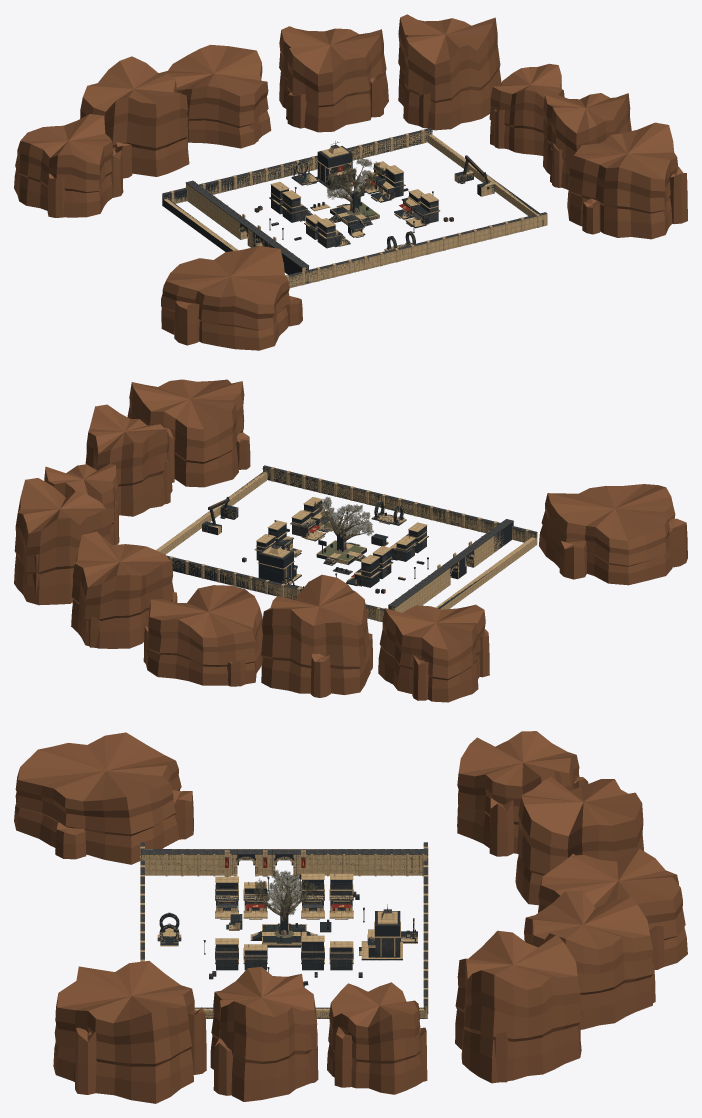
File: world.glb
3 views of the same model, one above another, from view 1: azimuth 30°, elevation 25°; view 2: azimuth 150°, elevation 25°; view 3: azimuth 270°, elevation 25° (orthographic). The views are drawn at different scales.
Parts seen in each view (by area): view 1: ENV_sandstone_mesa_08, ENV_sandstone_mesa_04, ENV_sandstone_mesa_07, ENV_sandstone_mesa_03, ENV_sandstone_mesa_01, ENV_sandstone_mesa_02, ENV_sandstone_mesa_00, ENV_sandstone_mesa_06, ENV_sandstone_mesa_05, BLD_boundary_wall.001, COL_BLD_boundary_wall, BLD_boundary_wall (+14 smaller); view 2: ENV_sandstone_mesa_08, ENV_sandstone_mesa_01, ENV_sandstone_mesa_02, ENV_sandstone_mesa_07, ENV_sandstone_mesa_03, ENV_sandstone_mesa_00, ENV_sandstone_mesa_04, ENV_sandstone_mesa_06, BLD_boundary_wall.001, ENV_sandstone_mesa_05, COL_BLD_boundary_wall.001, TREE_leaf_sprays (+11 smaller); view 3: ENV_sandstone_mesa_08, ENV_sandstone_mesa_04, ENV_sandstone_mesa_07, ENV_sandstone_mesa_06, ENV_sandstone_mesa_03, ENV_sandstone_mesa_01, ENV_sandstone_mesa_05, ENV_sandstone_mesa_00, ENV_sandstone_mesa_02, BLD_west_wall, BLD_west_wall.002, TREE_leaf_sprays (+12 smaller).
Part boxes in pixels (x1,y1,x2,y2): ENV_sandstone_mesa_08: (161, 245, 290, 350); ENV_sandstone_mesa_04: (398, 14, 501, 130); ENV_sandstone_mesa_07: (567, 122, 678, 239); ENV_sandstone_mesa_03: (279, 26, 388, 132); ENV_sandstone_mesa_01: (80, 56, 189, 176); ENV_sandstone_mesa_02: (160, 44, 271, 148); ENV_sandstone_mesa_00: (14, 114, 113, 217); ENV_sandstone_mesa_06: (543, 93, 631, 189); ENV_sandstone_mesa_05: (489, 63, 564, 155); BLD_boundary_wall.001: (289, 214, 546, 287); COL_BLD_boundary_wall: (162, 130, 432, 202); BLD_boundary_wall: (163, 130, 431, 203); ENV_sandstone_mesa_08: (539, 484, 675, 585); ENV_sandstone_mesa_01: (261, 574, 370, 694); ENV_sandstone_mesa_02: (146, 585, 262, 685); ENV_sandstone_mesa_07: (127, 379, 244, 487); ENV_sandstone_mesa_03: (71, 531, 173, 648); ENV_sandstone_mesa_00: (378, 604, 485, 702); ENV_sandstone_mesa_04: (14, 478, 111, 605); ENV_sandstone_mesa_06: (85, 404, 172, 516); BLD_boundary_wall.001: (263, 467, 536, 542); ENV_sandstone_mesa_05: (44, 463, 118, 545); COL_BLD_boundary_wall.001: (263, 467, 537, 542); TREE_leaf_sprays: (314, 497, 373, 537); ENV_sandstone_mesa_08: (14, 732, 181, 864); ENV_sandstone_mesa_04: (455, 930, 581, 1083); ENV_sandstone_mesa_07: (53, 961, 194, 1103); ENV_sandstone_mesa_06: (210, 966, 317, 1101); ENV_sandstone_mesa_03: (524, 891, 653, 1029); ENV_sandstone_mesa_01: (515, 777, 643, 905); ENV_sandstone_mesa_05: (327, 982, 422, 1094); ENV_sandstone_mesa_00: (457, 731, 579, 853); ENV_sandstone_mesa_02: (538, 848, 687, 966); BLD_west_wall: (296, 854, 427, 875); BLD_west_wall.002: (141, 854, 234, 875); TREE_leaf_sprays: (254, 870, 317, 915).
Bounding box in the file's own units: 234 × 36.47 × 212.
9 materials, 6 textured.
